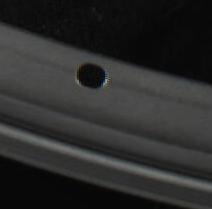holes: (75, 61, 108, 90)
